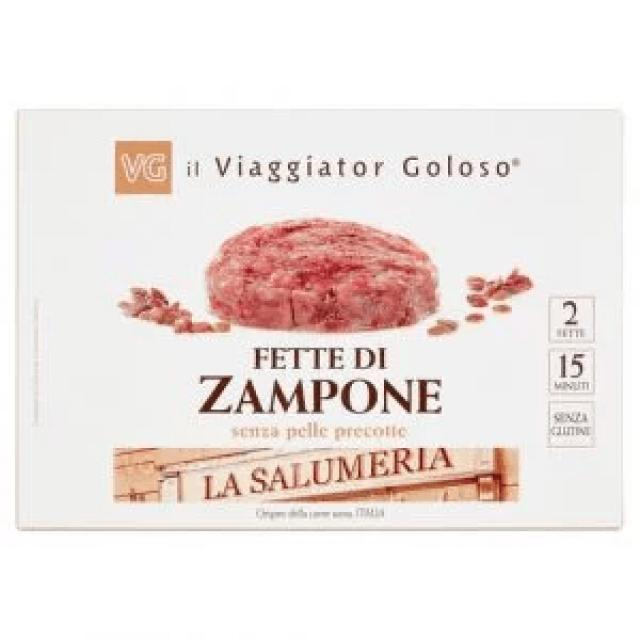Ham: (15, 109, 623, 533)
